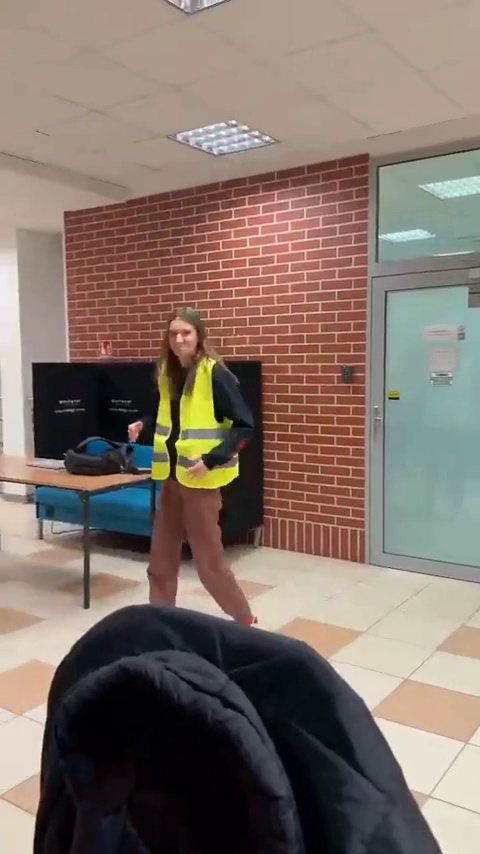vest: (130, 309, 271, 622)
